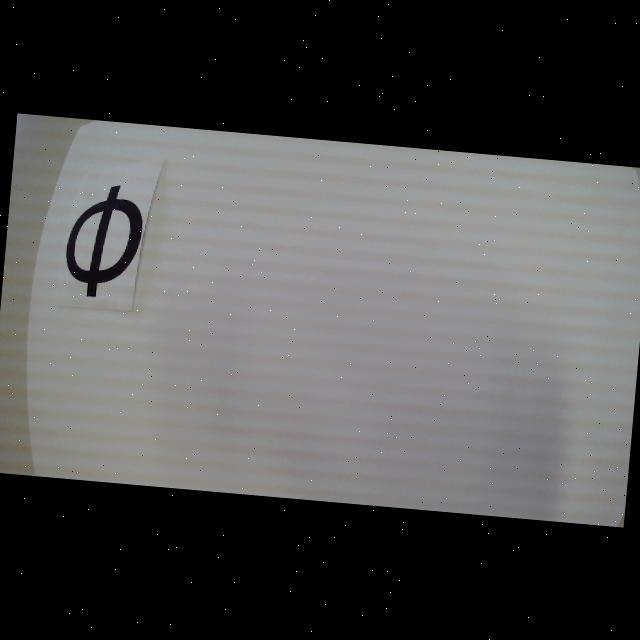PHI: (62, 180, 146, 302)
